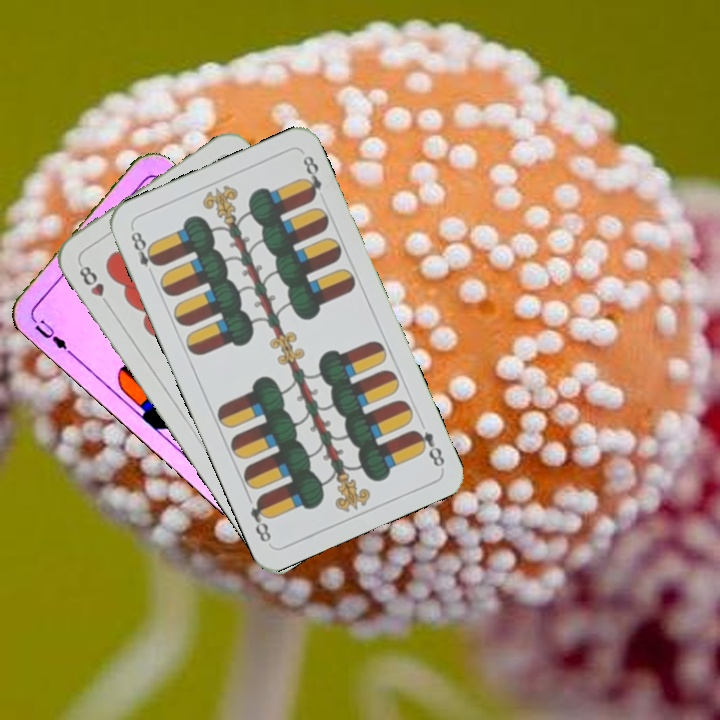E8: (126, 224, 162, 281), (408, 426, 447, 470)
EU: (26, 311, 74, 357)
H8: (75, 258, 114, 310)
